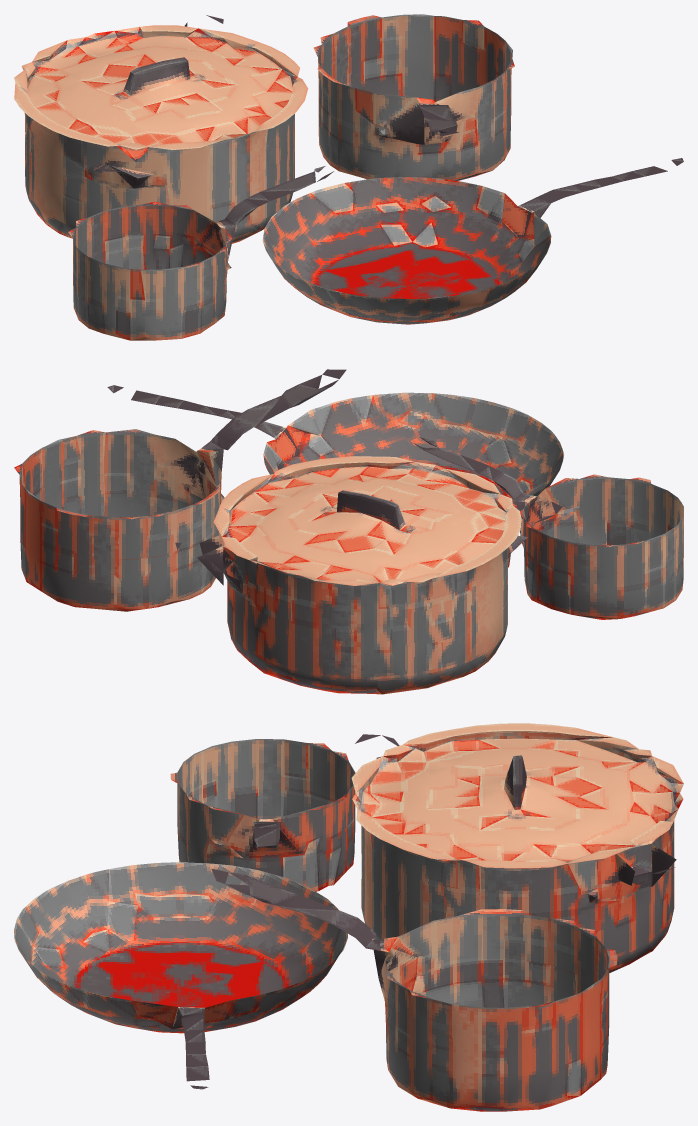
File: pots_pans.glb
3 renders of one model, top to bottom at view 1: azimuth 30°, elevation 25°; view 2: azimuth 150°, elevation 25°; view 3: azimuth 270°, elevation 25°, orthographic. The views are drawn at different scales.
Visible parts, largest first — view 1: mesh; view 2: mesh; view 3: mesh.
Boxes of the visible parts, x1=… form: mesh: x1=14, y1=14, x2=683, y2=340; mesh: x1=14, y1=369, x2=683, y2=694; mesh: x1=14, y1=723, x2=683, y2=1111.
Size of the model in its own units: 1.06 by 0.25 by 0.9322.
1 material, 1 textured.
